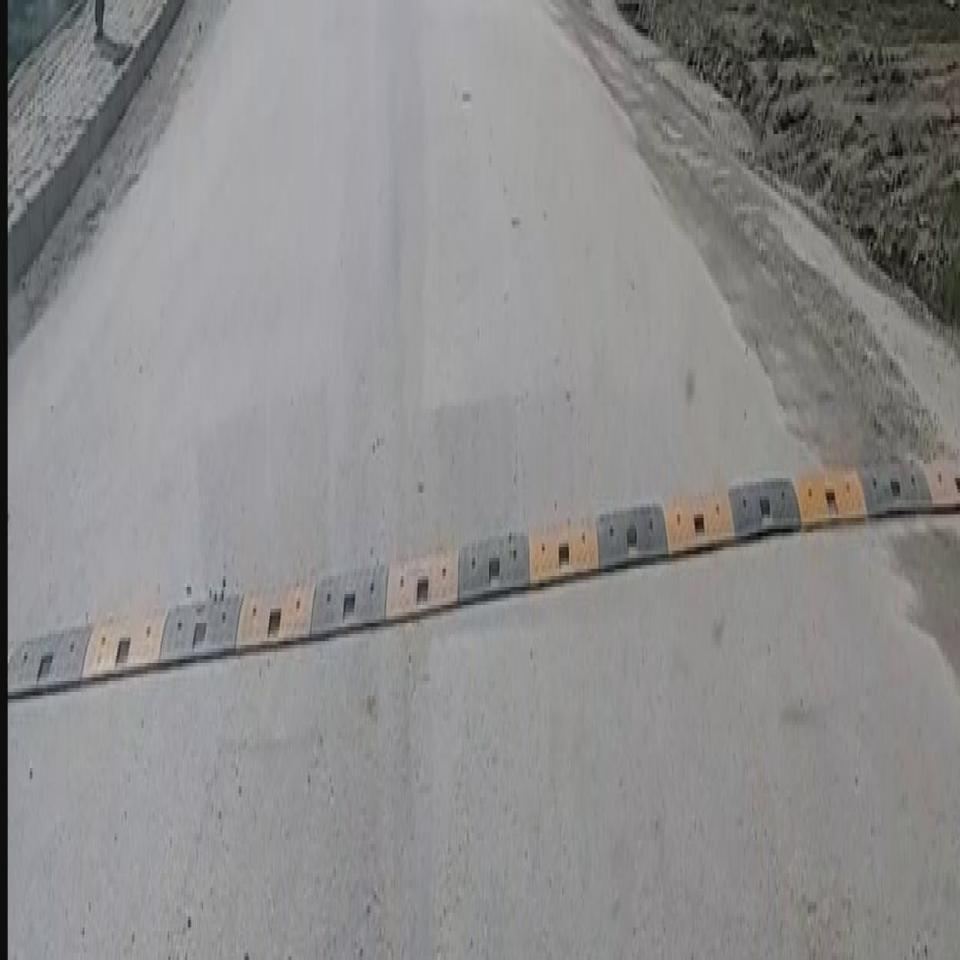speedbreaker: (414, 453, 948, 642), (5, 565, 398, 645)
